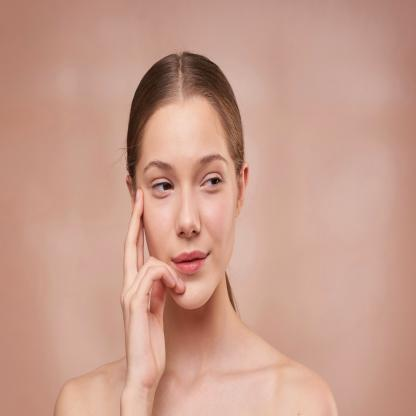Eye: (198, 173, 227, 193), (148, 179, 176, 196)
Mouth: (168, 249, 211, 277)
Nose: (176, 185, 202, 240)
